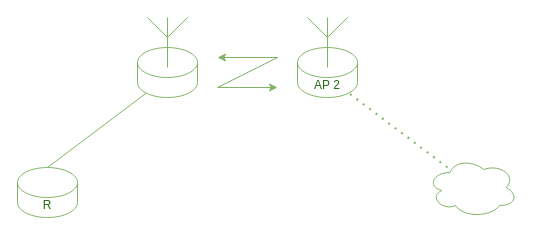
Some shapes in this 535 by 235 pixel diagram are drawn without their labels. Here are the shapes that lost their labels. From the top down, the centre of each, then its label:
[167,72]: AP 1
[472,187]: WLAN
